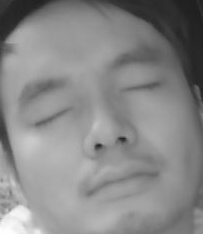blink: (34, 106, 71, 128), (121, 78, 158, 99)
mouth: (83, 156, 159, 201)
